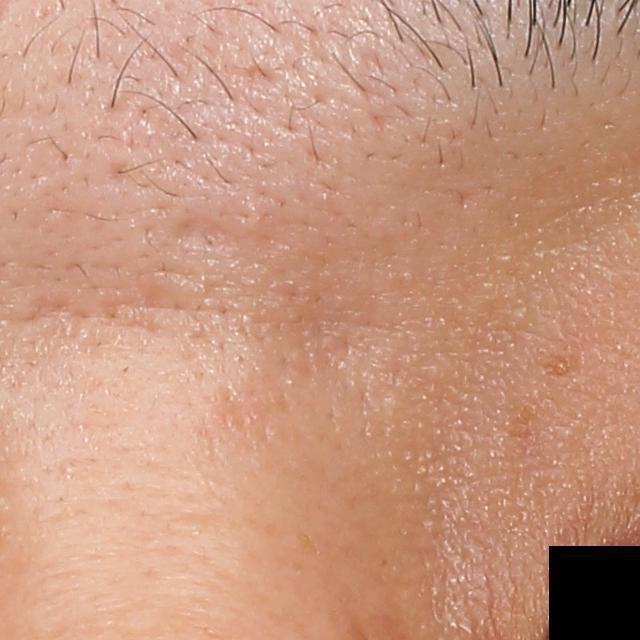atrophic_scar: (169, 210, 244, 254)
melasma: (540, 349, 581, 377)
